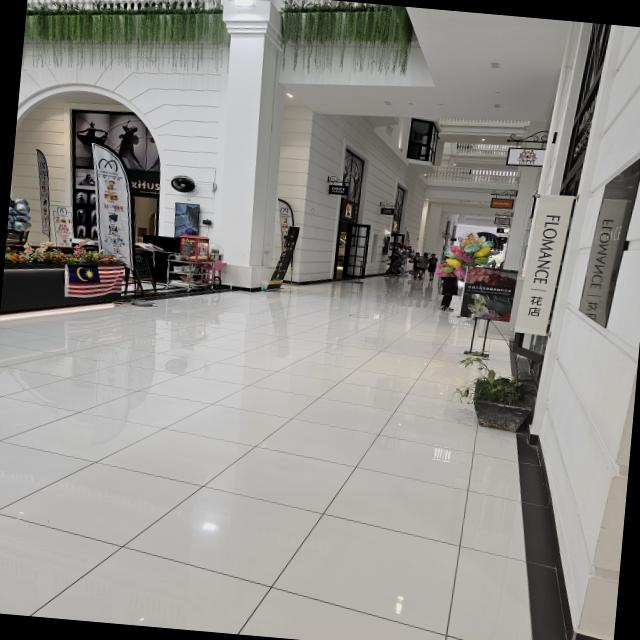footpath: (0, 291, 475, 640)
obstacle: (0, 240, 148, 327), (448, 256, 522, 364), (144, 222, 236, 301), (456, 359, 545, 434)
person: (410, 247, 440, 281)
